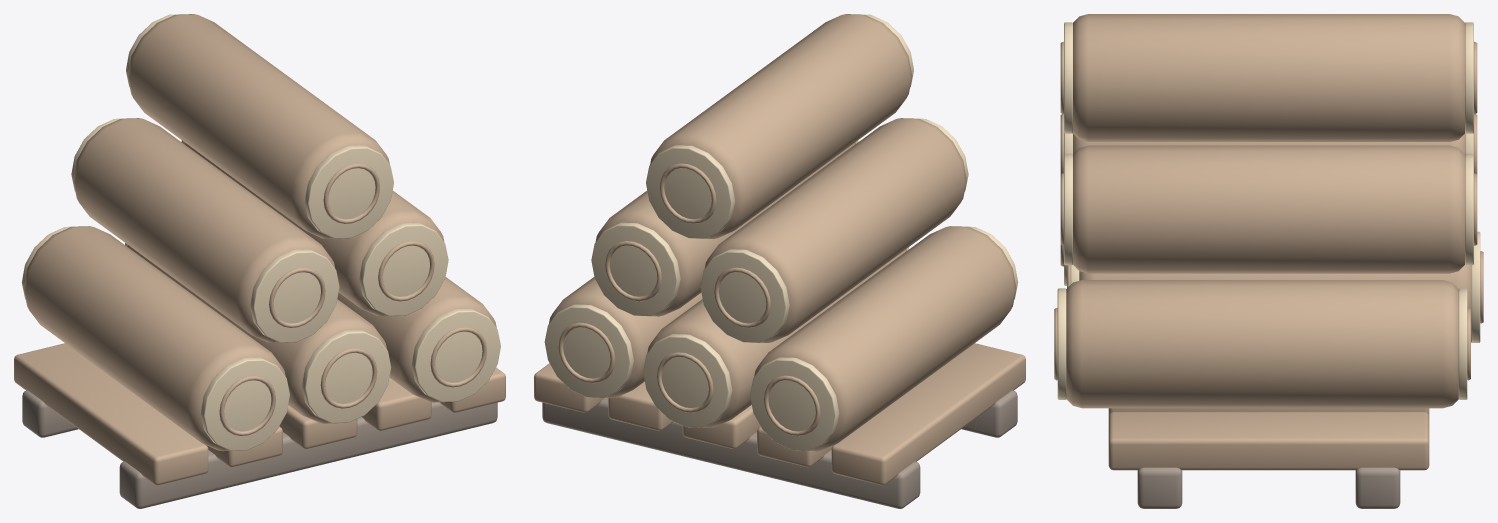
File: wood-full.glb
The picture shows the model from 3 angles, left to right: view 1: azimuth 30°, elevation 25°; view 2: azimuth 150°, elevation 25°; view 3: azimuth 270°, elevation 25°; orthographic projection. The views are drawn at different scales.
Visible parts, largest first — view 1: Soft bark log, Soft bark log.003, Soft bark log.005, Rounded pallet slat, Low pallet runner, Cut end, Cut end.006, Cut end.010, Cut end.004, Cut end.002, Cut end.008, Soft bark log.002 (+13 smaller); view 2: Soft bark log, Soft bark log.003, Soft bark log.005, Rounded pallet slat, Low pallet runner.001, Cut end.001, Cut end.007, Cut end.011, Cut end.005, Cut end.009, Cut end.003, Soft bark log.001 (+13 smaller); view 3: Soft bark log.002, Soft bark log.004, Soft bark log.005, Rounded pallet slat.004, Soft bark log.001, Low pallet runner, Low pallet runner.001, Soft bark log.003, Rounded pallet slat.003, Cut end.004, Cut end.005, Cut end.008 (+4 smaller).
Boxes of the visible parts, left/top/right/bottom form: Soft bark log: left=23, top=226, right=285, bottom=451; Soft bark log.003: left=73, top=118, right=335, bottom=342; Soft bark log.005: left=127, top=14, right=389, bottom=238; Rounded pallet slat: left=14, top=343, right=208, bottom=485; Low pallet runner: left=119, top=402, right=497, bottom=508; Cut end: left=200, top=357, right=289, bottom=450; Cut end.006: left=250, top=249, right=339, bottom=342; Cut end.010: left=304, top=145, right=393, bottom=238; Cut end.004: left=411, top=308, right=500, bottom=402; Cut end.002: left=302, top=330, right=391, bottom=423; Cut end.008: left=359, top=222, right=448, bottom=316; Soft bark log.002: left=337, top=277, right=496, bottom=402; Soft bark log: left=754, top=226, right=1016, bottom=451; Soft bark log.003: left=704, top=118, right=966, bottom=342; Soft bark log.005: left=650, top=14, right=912, bottom=238; Rounded pallet slat: left=831, top=343, right=1025, bottom=485; Low pallet runner.001: left=542, top=398, right=920, bottom=508; Cut end.001: left=750, top=357, right=839, bottom=450; Cut end.007: left=700, top=249, right=789, bottom=342; Cut end.011: left=646, top=145, right=735, bottom=238; Cut end.005: left=544, top=304, right=633, bottom=397; Cut end.009: left=591, top=222, right=680, bottom=316; Cut end.003: left=643, top=334, right=732, bottom=427; Soft bark log.001: left=647, top=249, right=906, bottom=427; Soft bark log.002: left=1066, top=280, right=1458, bottom=408; Soft bark log.004: left=1073, top=145, right=1464, bottom=273; Soft bark log.005: left=1073, top=14, right=1464, bottom=141; Rounded pallet slat.004: left=1108, top=412, right=1429, bottom=470; Soft bark log.001: left=1079, top=265, right=1471, bottom=342; Low pallet runner: left=1137, top=467, right=1182, bottom=508; Low pallet runner.001: left=1355, top=467, right=1400, bottom=508; Soft bark log.003: left=1073, top=134, right=1464, bottom=153; Rounded pallet slat.003: left=1108, top=408, right=1429, bottom=415; Cut end.004: left=1057, top=288, right=1066, bottom=399; Cut end.005: left=1458, top=288, right=1467, bottom=399; Cut end.008: left=1064, top=153, right=1072, bottom=265.
Bounding box in the file's own units: 1.46 × 1.35 × 1.34.
